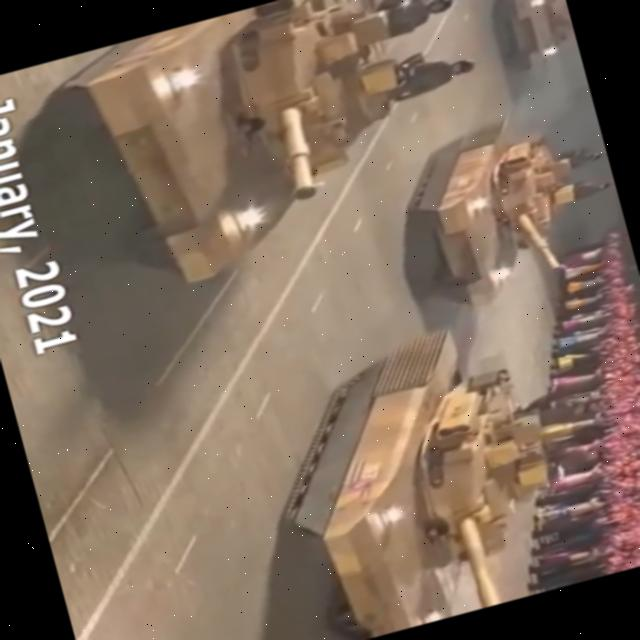north tank: (172, 295, 639, 640), (18, 0, 493, 329), (356, 88, 630, 334)
